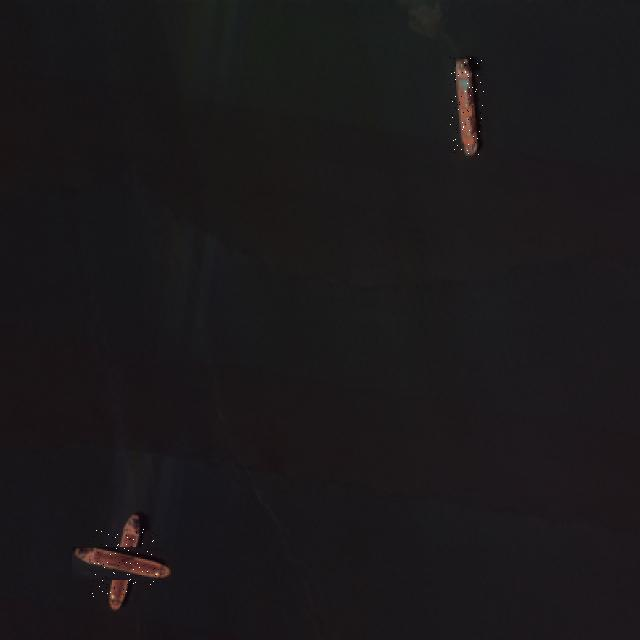boat: (89, 529, 157, 597), (450, 54, 484, 156)
